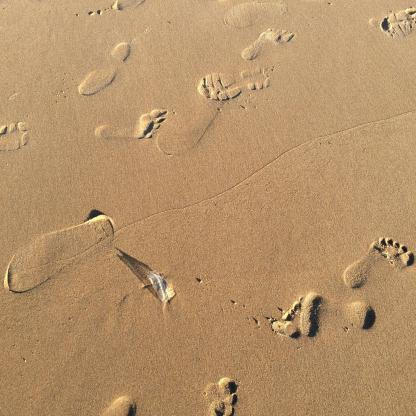plastik: (148, 272, 171, 304)
